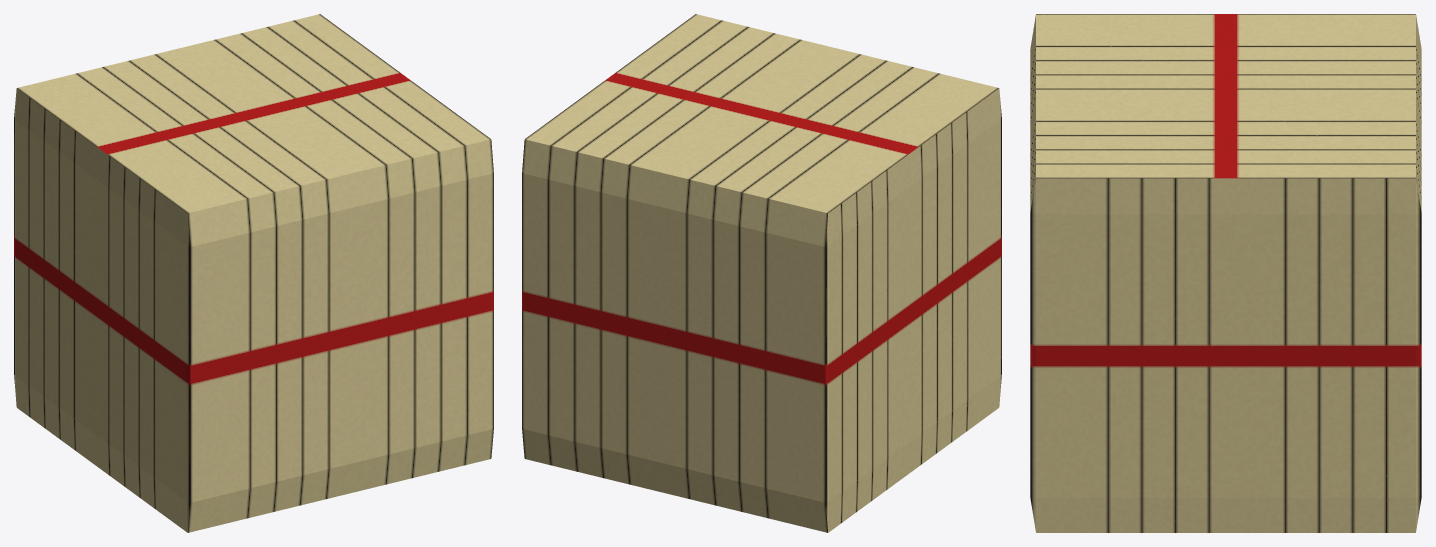
The model's file is Ruler.glb.
3 views of the same model, side by side, from view 1: azimuth 30°, elevation 25°; view 2: azimuth 150°, elevation 25°; view 3: azimuth 270°, elevation 25° (orthographic). The views are drawn at different scales.
Visible parts, largest first — view 1: Ruler; view 2: Ruler; view 3: Ruler.
Boxes of the visible parts, <box> form: Ruler: <box>14,14,493,532</box>; Ruler: <box>522,14,1001,532</box>; Ruler: <box>1030,14,1421,532</box>.
Size of the model in its own units: 1 by 1 by 1.
Materials: 1 (1 with a texture image).
